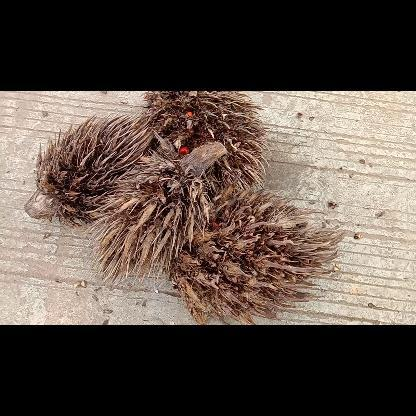Janjang kosong: (169, 186, 345, 320), (87, 138, 227, 280), (24, 111, 154, 225), (142, 91, 268, 189)
